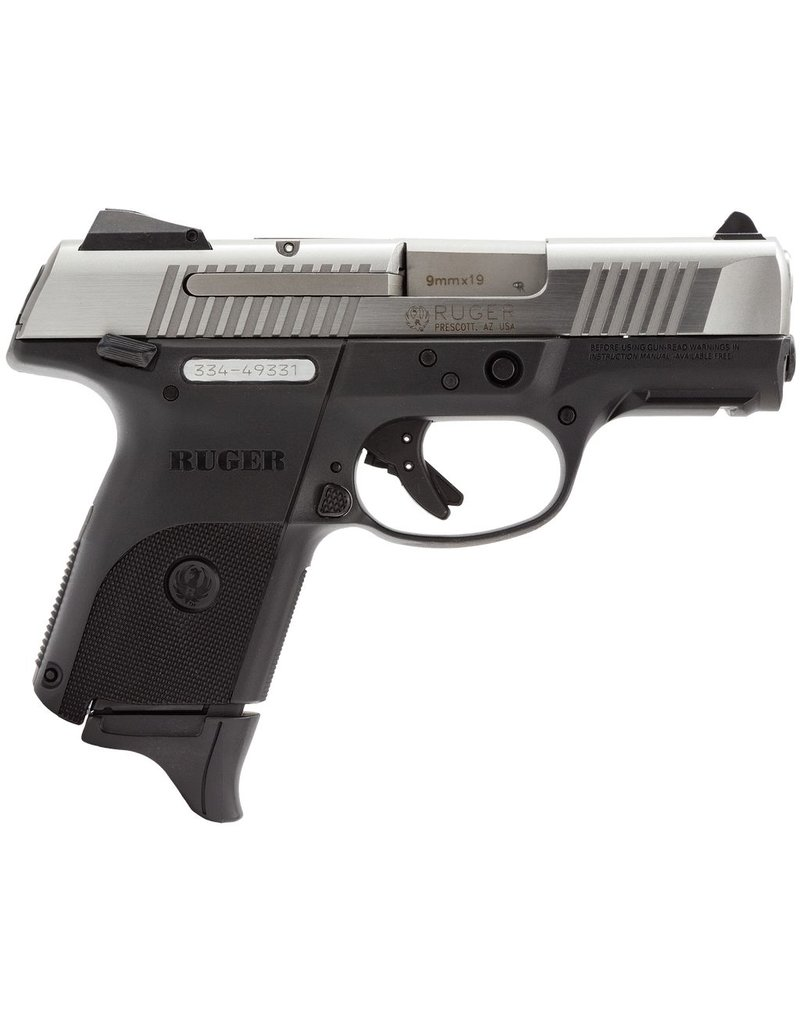Arma Real: (8, 205, 800, 835)
